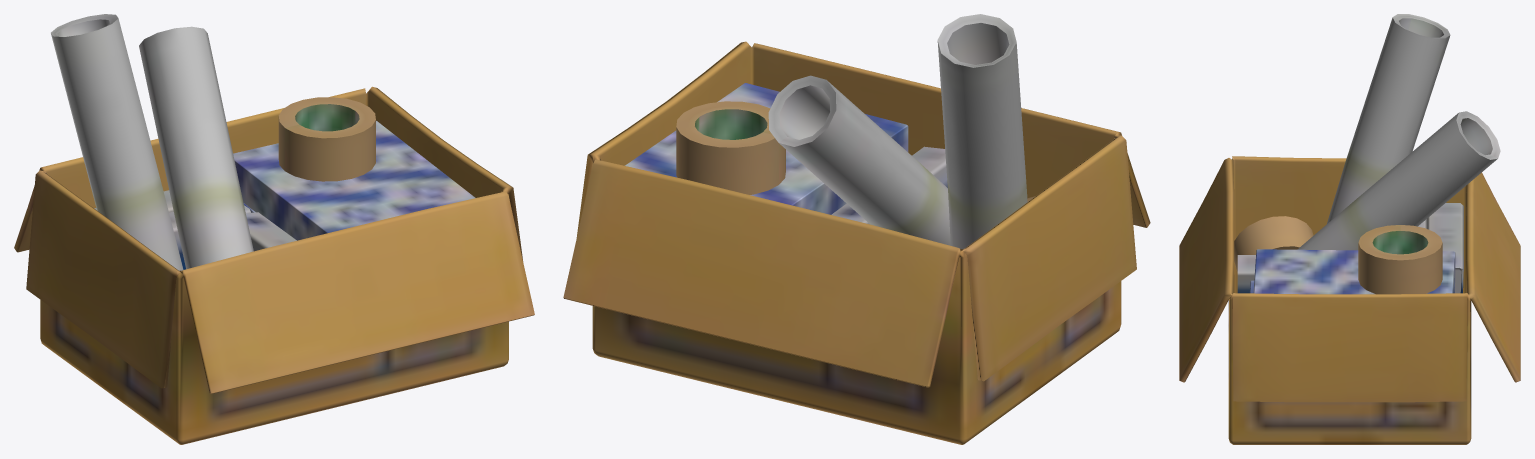
3 renders of one model, left to right at view 1: azimuth 30°, elevation 25°; view 2: azimuth 150°, elevation 25°; view 3: azimuth 270°, elevation 25°, orthographic. The views are drawn at different scales.
Size of the model in its own units: 9.34 by 8.45 by 8.77.
Materials: 1 (1 with a texture image).
